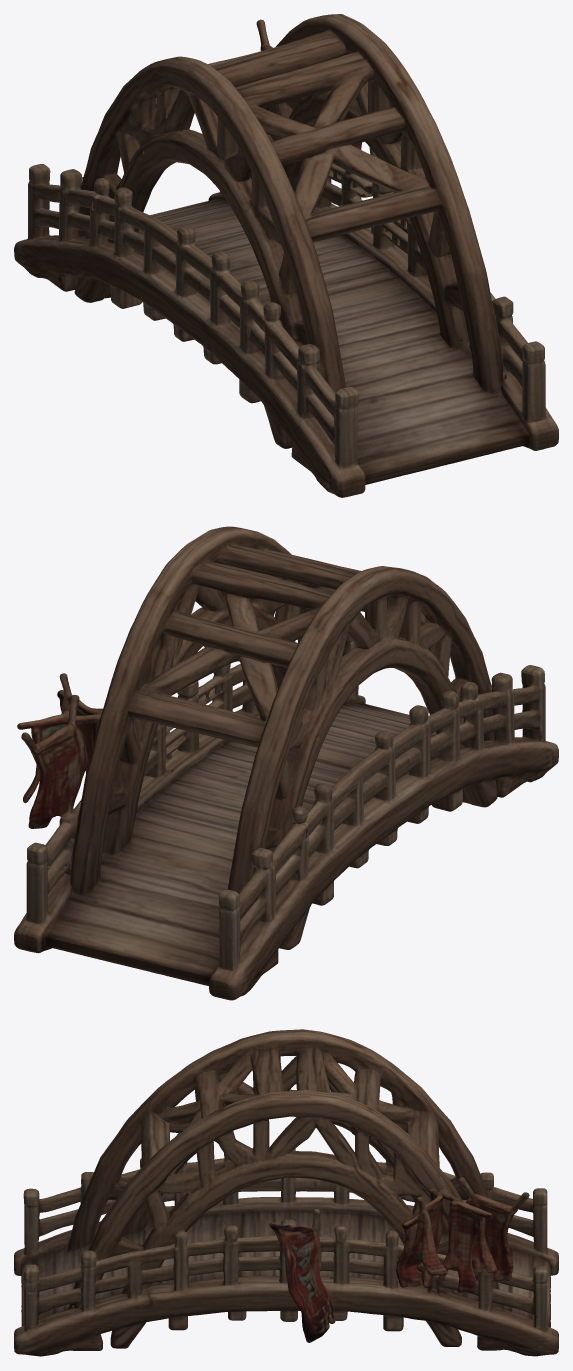
Rendered from timber-arch-bridge.glb.
3 views of the same model, one above another, from view 1: azimuth 30°, elevation 25°; view 2: azimuth 150°, elevation 25°; view 3: azimuth 270°, elevation 25° (orthographic). The views are drawn at different scales.
Visible parts, largest first — view 1: world; view 2: world; view 3: world.
Boxes of the visible parts, x1=… form: world: x1=14, y1=14, x2=558, y2=497; world: x1=14, y1=526, x2=558, y2=1000; world: x1=14, y1=1029, x2=558, y2=1356.
Bounding box in the file's own units: 4 × 4.28 × 8.32.
1 material, 1 textured.
